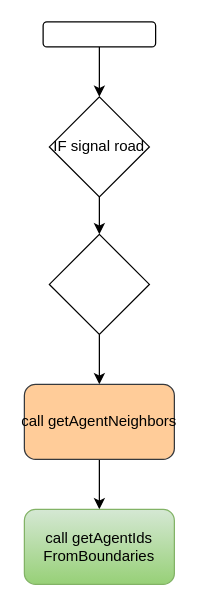
Some shapes in this 198 by 606 pixel diagram are drawn without their labels. Here are the shapes that lost their labels. From the top down, the box of each, then its label:
(42, 21, 156, 47): start
(48, 233, 149, 334): IF vehicle moving road = signal road
